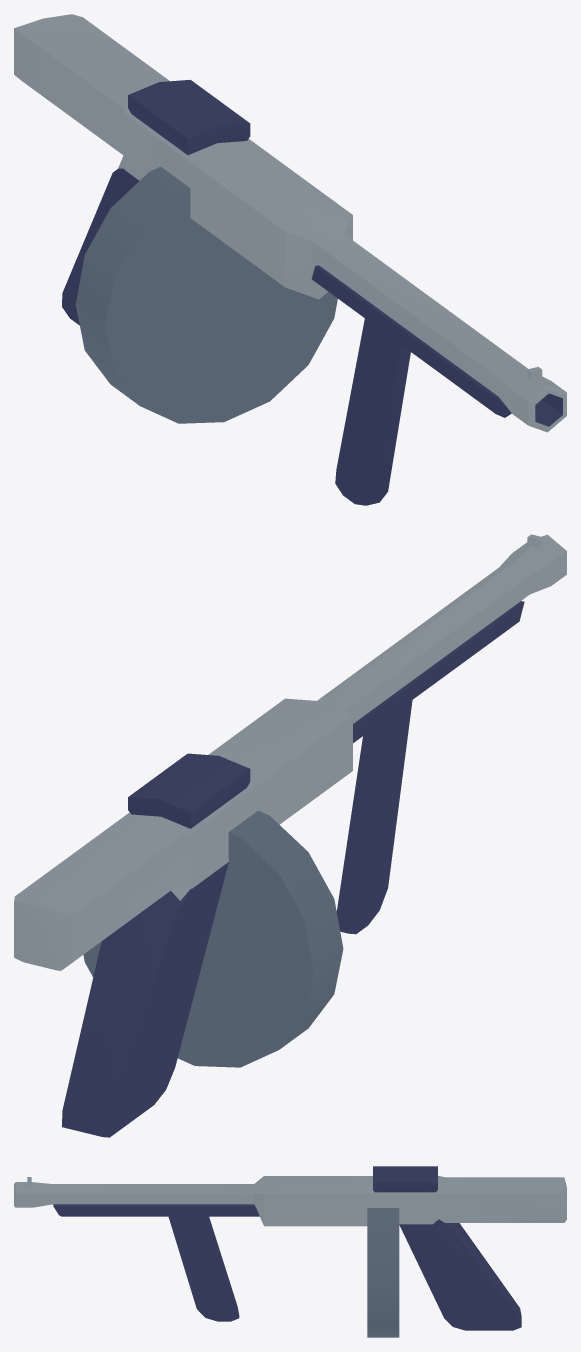
File: assault_rifle.glb
The picture shows the model from 3 angles, top to bottom: view 1: azimuth 30°, elevation 25°; view 2: azimuth 150°, elevation 25°; view 3: azimuth 270°, elevation 25°; orthographic projection. The views are drawn at different scales.
Visible parts, largest first — view 1: thompson_rifle; view 2: thompson_rifle; view 3: thompson_rifle.
Boxes of the visible parts, x1,y1,x2,y2 form: thompson_rifle: (14,14,566,505); thompson_rifle: (14,534,566,1137); thompson_rifle: (14,1166,566,1337).
Bounding box in the file's own units: 2.83 × 3.32 × 10.46.
